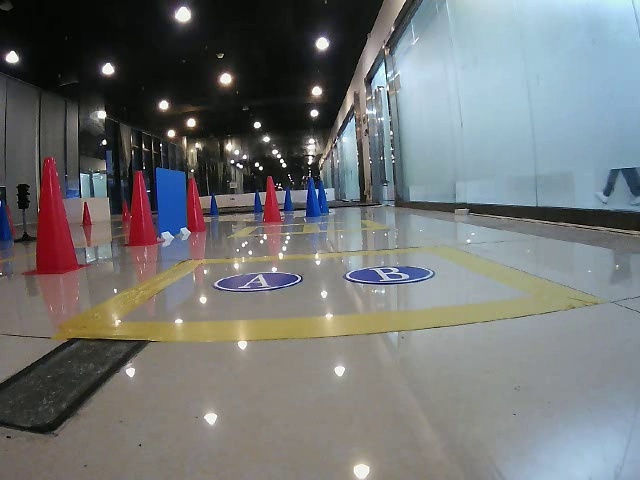A: (215, 270, 301, 288)
B: (343, 263, 433, 281)
